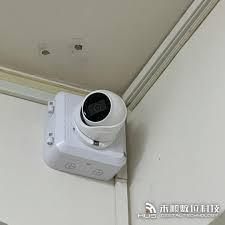Monitor: (52, 84, 153, 187)
